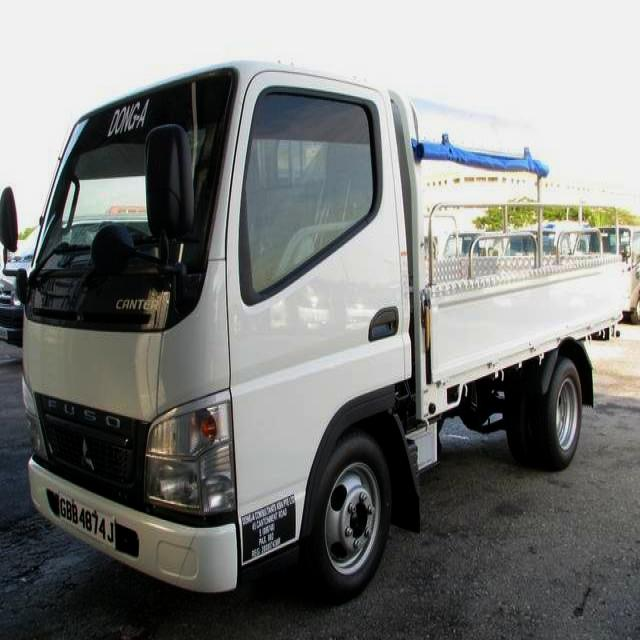truck: (1, 61, 630, 606)
